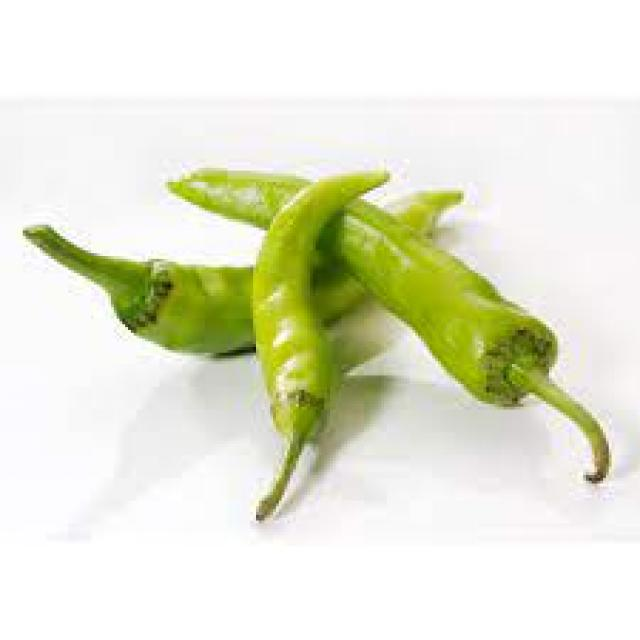green chilli: (164, 174, 608, 484), (259, 172, 387, 520)
